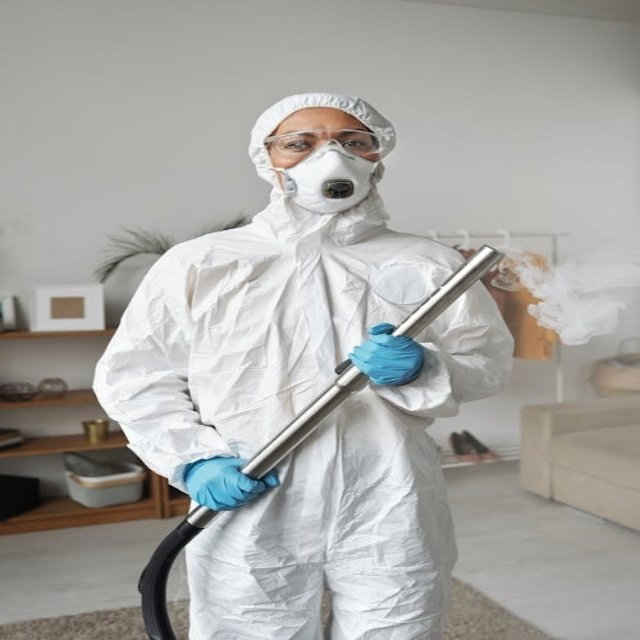Gafas: (263, 128, 384, 159)
Guantes: (181, 457, 277, 511), (348, 323, 424, 386)
Mascara: (276, 144, 379, 213)
